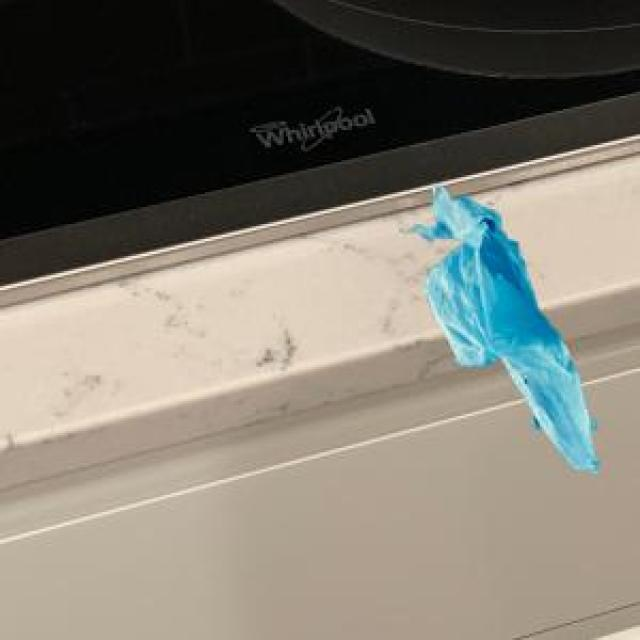plastic: (380, 165, 624, 499)
